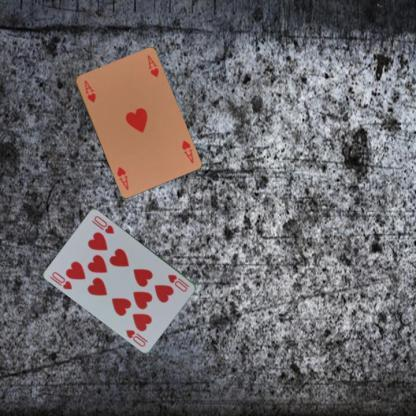10h: (166, 271, 190, 293), (50, 269, 74, 291)
Ah: (178, 138, 194, 164), (82, 78, 97, 104)
